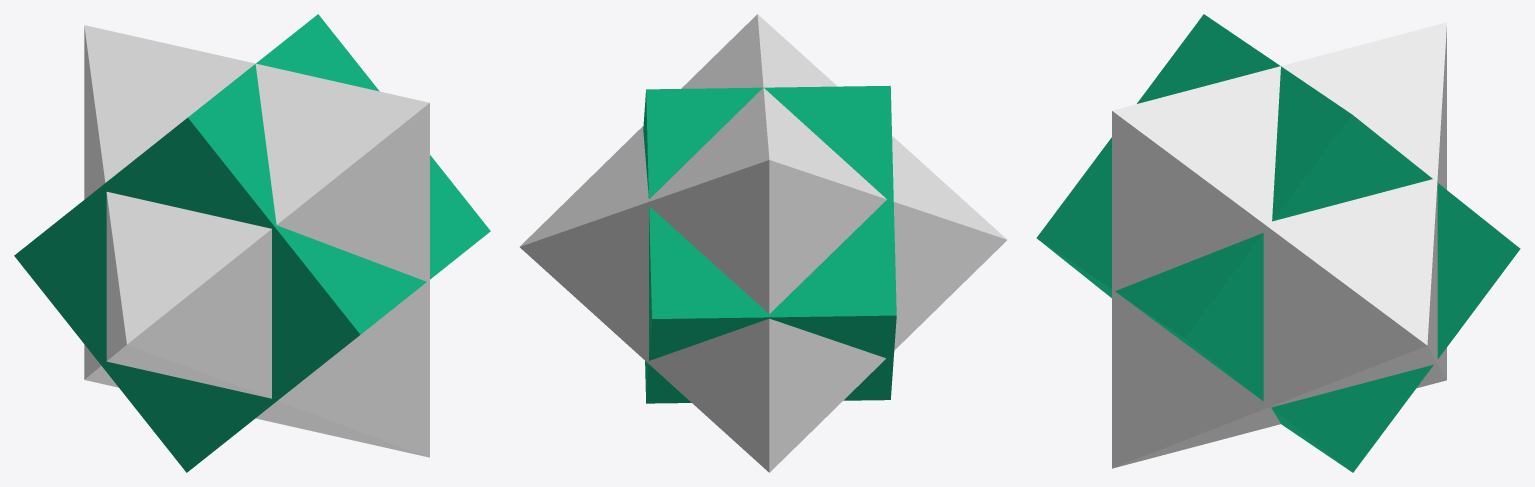
The picture shows the model from 3 angles, left to right: view 1: azimuth 30°, elevation 25°; view 2: azimuth 150°, elevation 25°; view 3: azimuth 270°, elevation 25°; orthographic projection. The views are drawn at different scales.
Visible parts, largest first — view 1: Octahedron, Cube; view 2: Octahedron, Cube; view 3: Octahedron, Cube.
Part boxes in pixels (left/top/right/bottom): Octahedron: left=84, top=25, right=429, bottom=457; Cube: left=14, top=14, right=490, bottom=472; Octahedron: left=520, top=14, right=1006, bottom=472; Cube: left=643, top=85, right=896, bottom=403; Octahedron: left=1112, top=22, right=1446, bottom=468; Cube: left=1036, top=14, right=1520, bottom=472.
Size of what is drawn, in the model's own units: 132 by 110 by 135.
